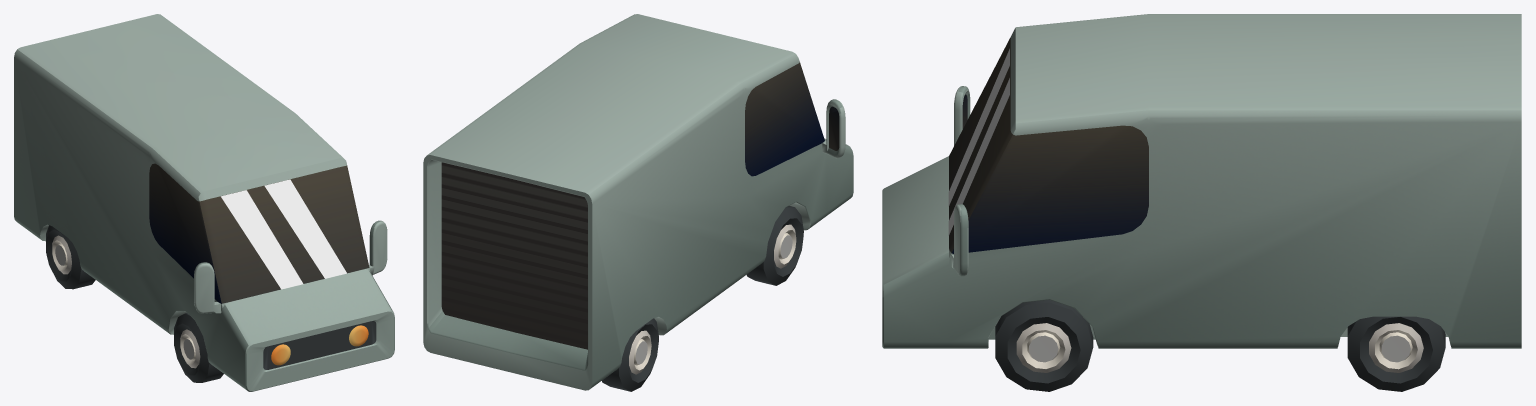
The model's file is carvan.fbx.
3 views of the same model, side by side, from view 1: azimuth 30°, elevation 25°; view 2: azimuth 150°, elevation 25°; view 3: azimuth 270°, elevation 25° (orthographic). The views are drawn at different scales.
Visible parts, largest first — view 1: Cube; view 2: Cube; view 3: Cube.
Boxes of the visible parts, box(x1,y1,x2,y2) form: Cube: box(14, 14, 394, 391); Cube: box(423, 14, 853, 391); Cube: box(882, 14, 1521, 391).
Bounding box in the file's own units: 229 × 480 × 235.
